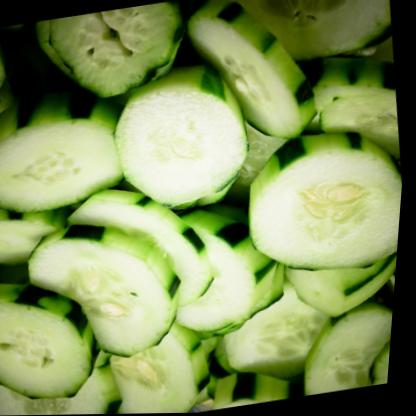cucumber: (235, 122, 409, 288), (17, 219, 195, 373), (101, 60, 269, 215), (0, 86, 144, 225), (0, 266, 124, 416)
